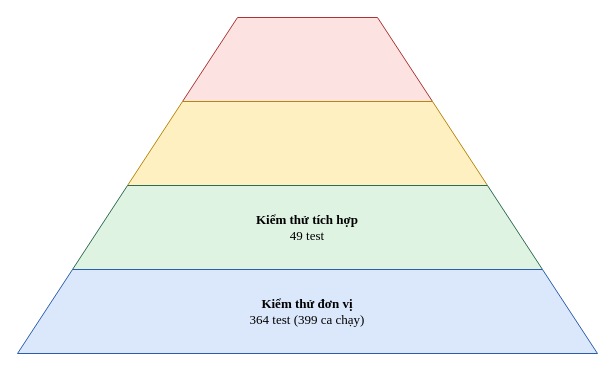
Some shapes in this 615 by 371 pixel diagram are drawn without their labels. The box of each missing label's shape, as (x1, y1, x2, y2) in pixels:
Kiểm thử tải k6 — 2 kịch bản: (182, 16, 432, 102)
Kiểm thử đầu cuối (E2E) 8 kịch bản (7 spec): (126, 100, 488, 186)
